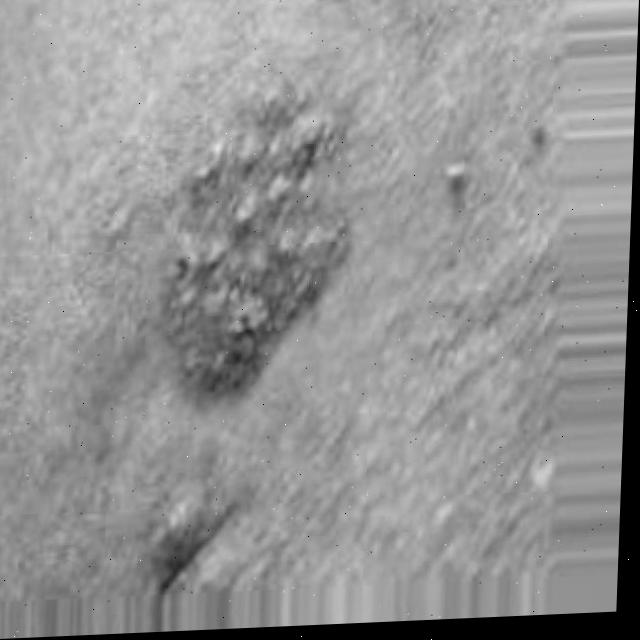Shingles: (151, 74, 356, 403)
